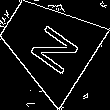N_NW: (18, 13, 78, 74)
